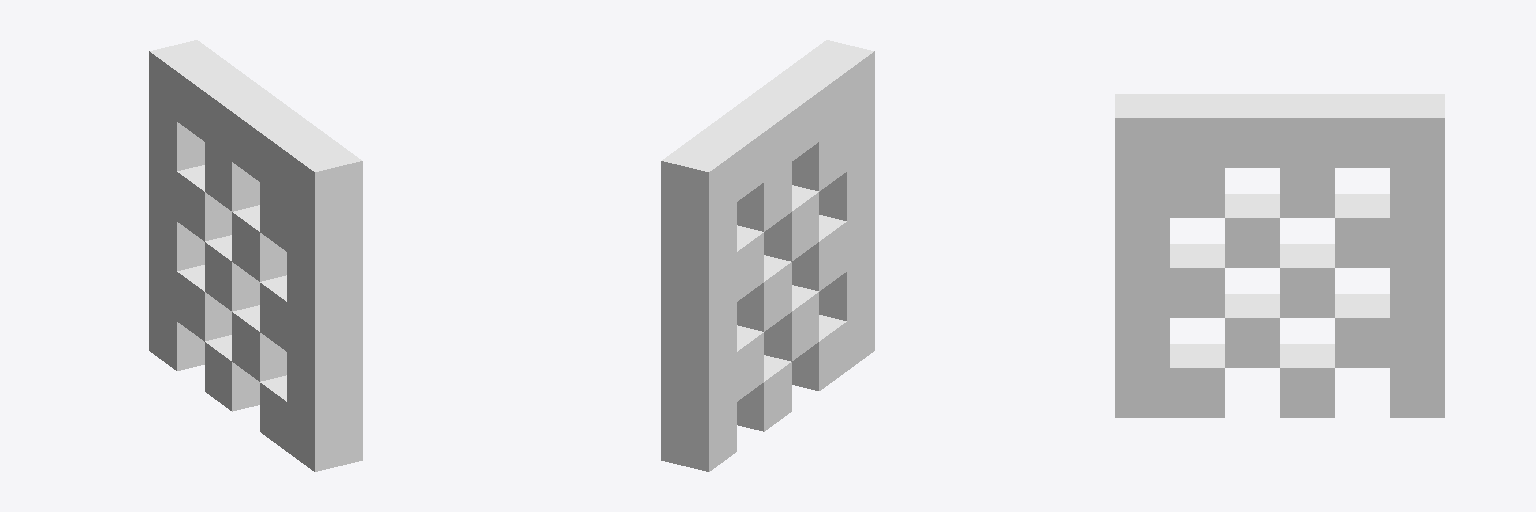
Rendered from UVGrate.obj.
The picture shows the model from 3 angles: view 1: azimuth 30°, elevation 25°; view 2: azimuth 150°, elevation 25°; view 3: azimuth 270°, elevation 25°; orthographic projection.
Visible parts, largest first — view 1: object 1; view 2: object 1; view 3: object 1.
Boxes of the visible parts, <box> form: object 1: <box>149,40,362,471</box>; object 1: <box>661,40,874,471</box>; object 1: <box>1115,94,1444,417</box>.
Bounding box in the file's own units: 0.1 × 0.6 × 0.6.